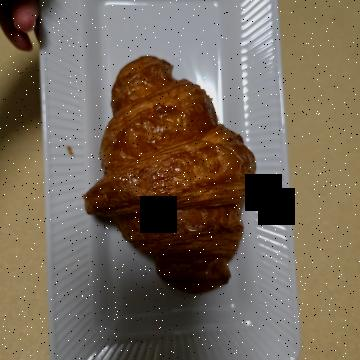croissant: (52, 98, 306, 288)
